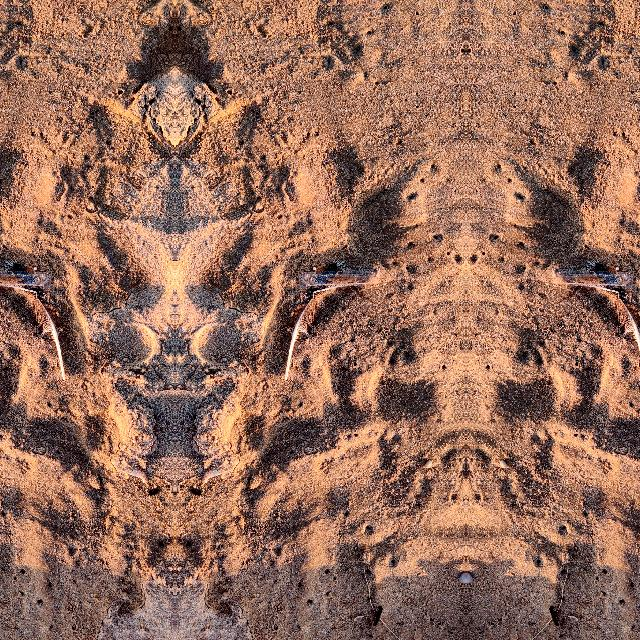Plastic: (548, 268, 636, 288), (296, 268, 382, 288), (0, 268, 52, 287), (311, 266, 317, 270), (31, 266, 37, 270), (614, 266, 620, 270)
